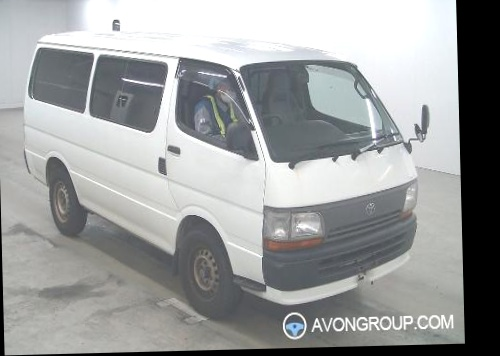van: (26, 11, 431, 308)
